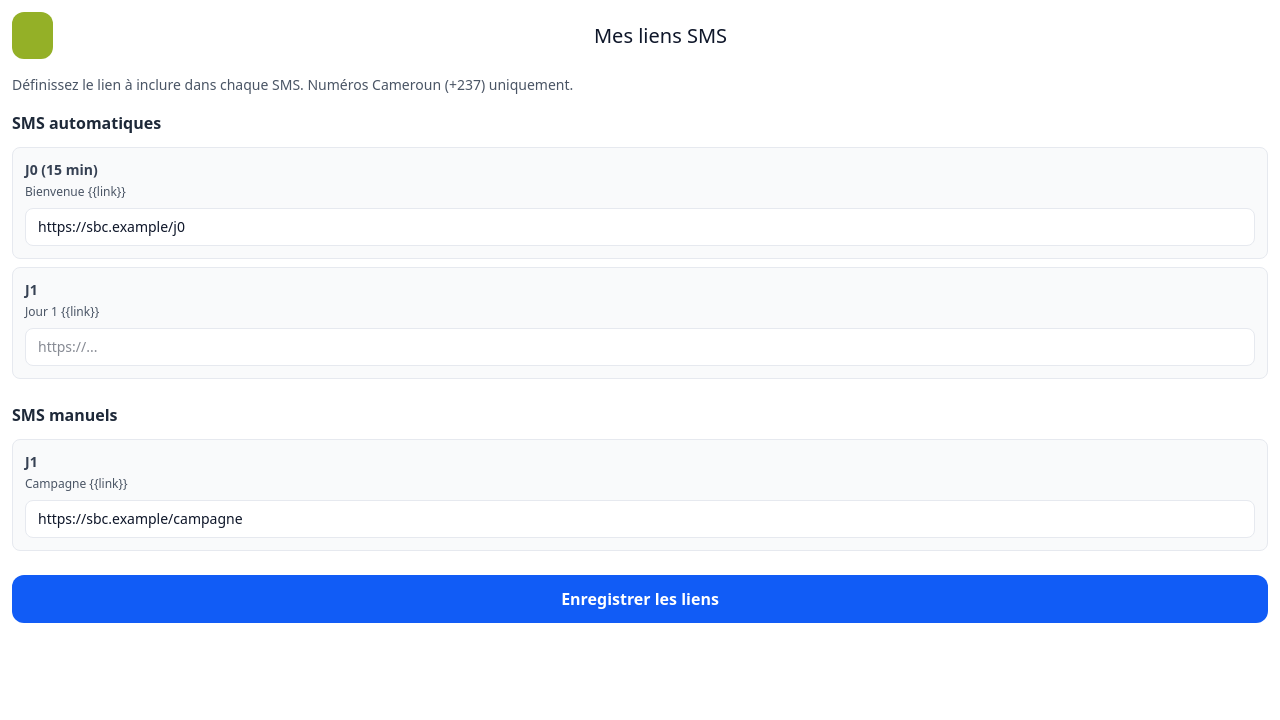
it: Mes liens SMS › says so when the save fails instead of claiming success
The width and height of the screenshot is (1280, 720).
Expected: the field showing "https://sbc.example/j0" below "Bienvenue {{link}}" is shown, [25,208,1255,246]
Step 1. Click the button "Enregistrer les liens" → click(640, 599), box [12,575,1268,623]
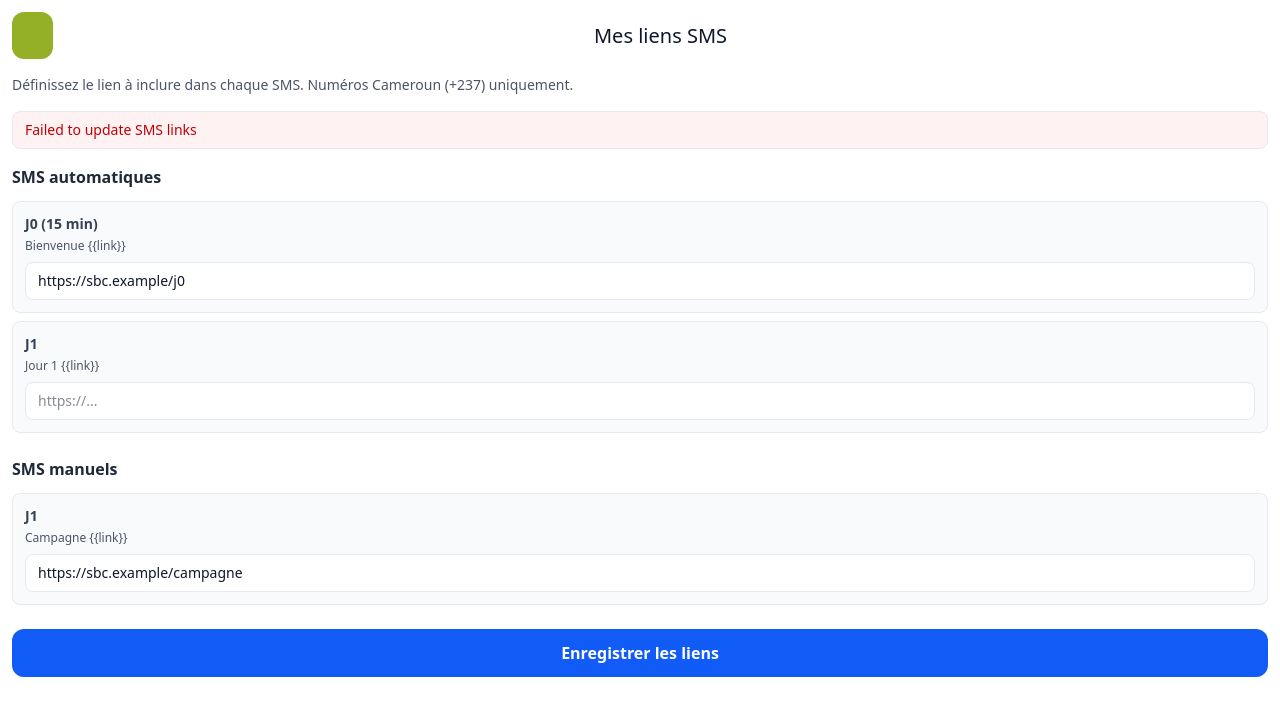
Result: the text "Failed to update SMS links" is shown at [12,111,1268,149]
